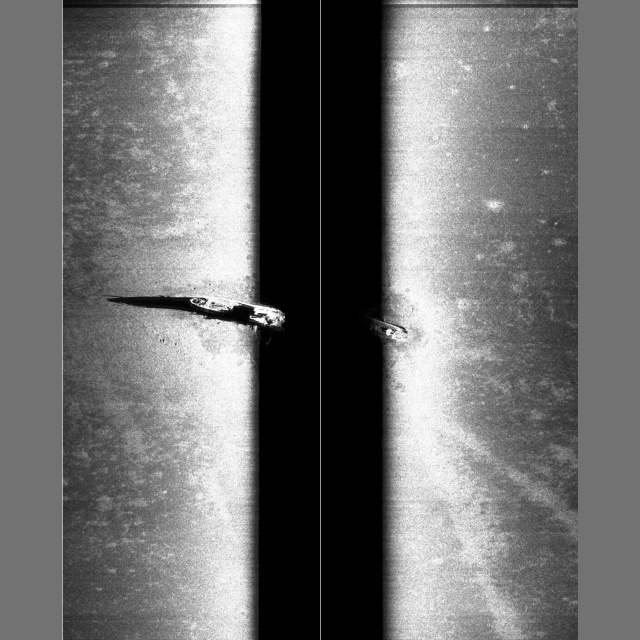Shipwreck: (190, 295, 408, 346)
